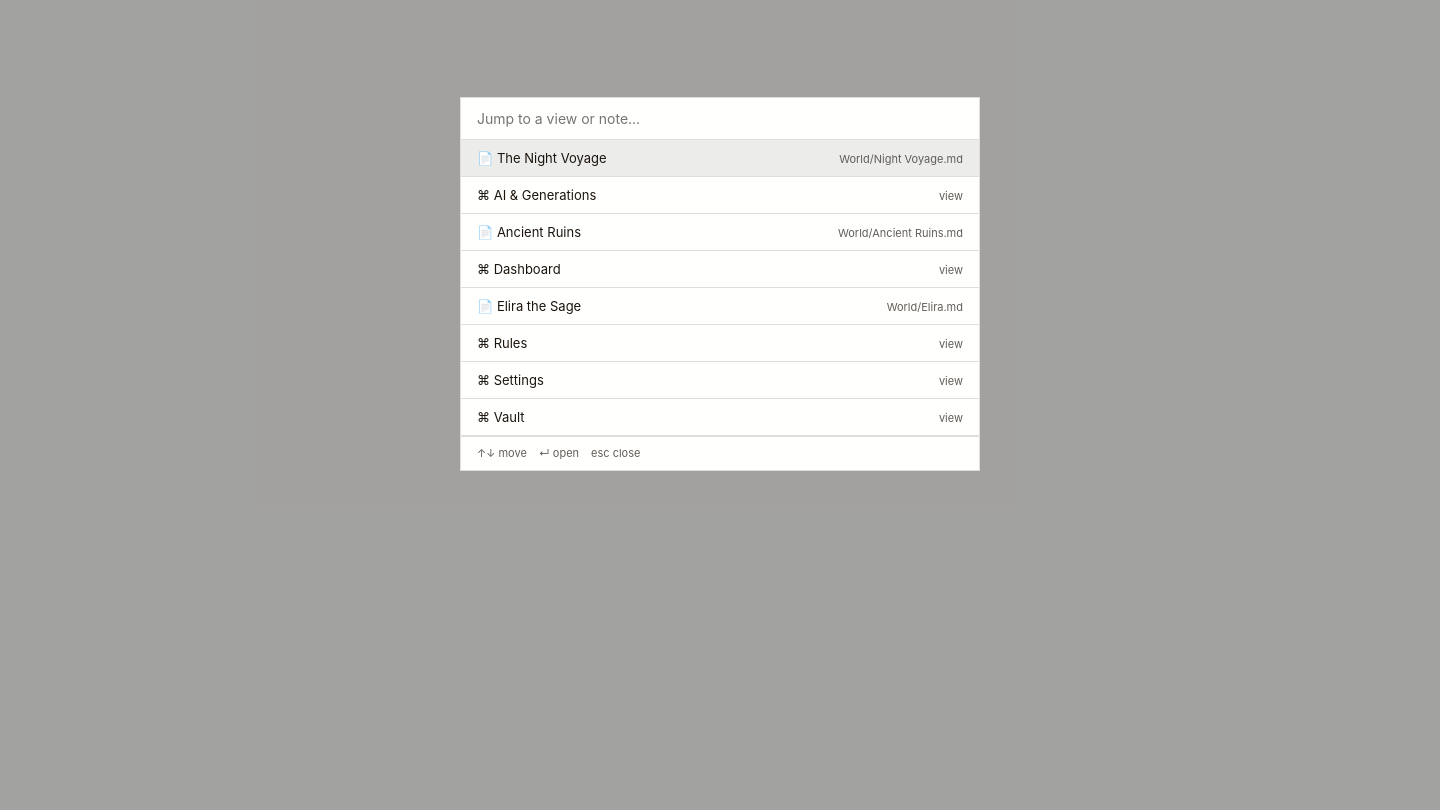
Test: CommandPalette › fuzzy-filters notes by title
Type "elra" into the field named "Palette query" at (720, 119), box 461,98 -> 979,140
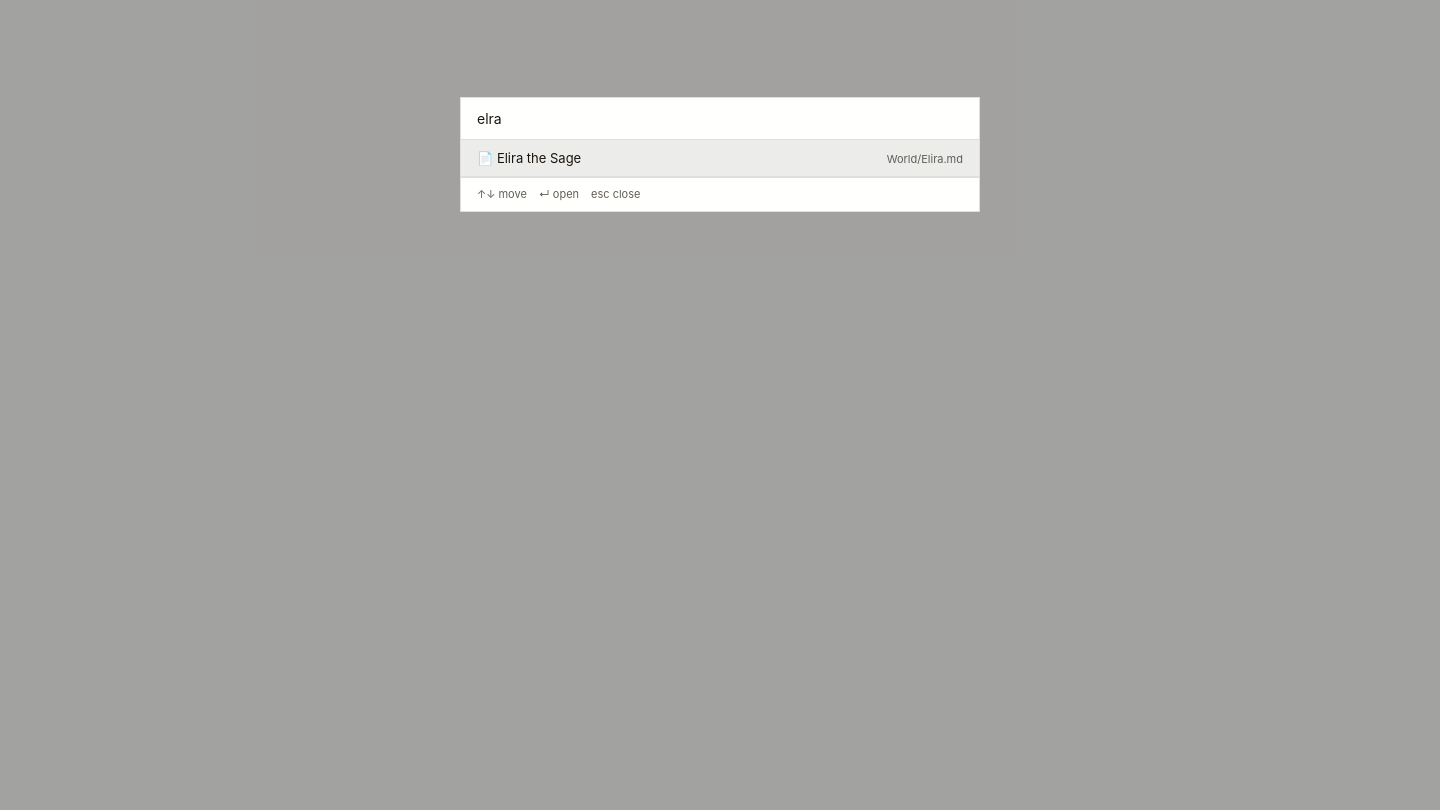
Check: the text "📄 Elira the Sage" is shown, box 477,150 -> 581,166
Check: the button "Ancient Ruins" is gone
